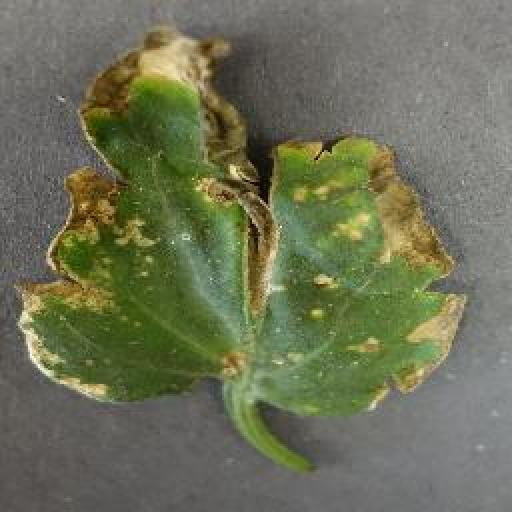Bacterial Spot: (12, 18, 473, 418)
